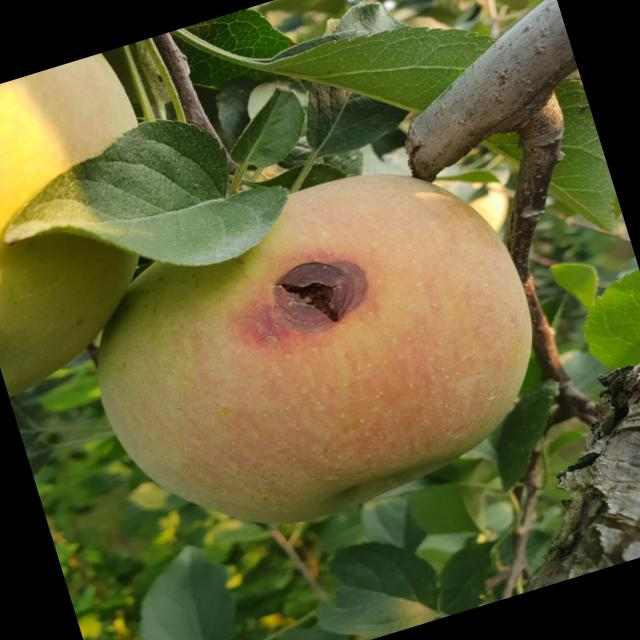rotten: (39, 121, 574, 581)
